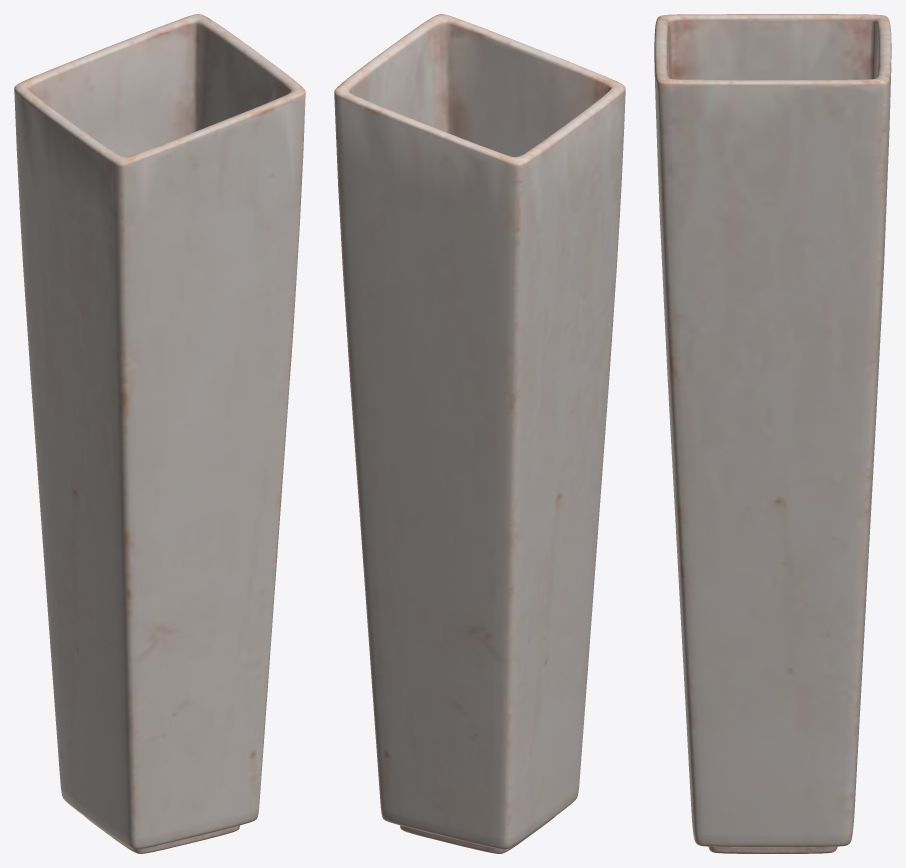
The model's file is ceramic_vase_03.glb.
The picture shows the model from 3 angles, left to right: view 1: azimuth 30°, elevation 25°; view 2: azimuth 150°, elevation 25°; view 3: azimuth 270°, elevation 25°; orthographic projection. The views are drawn at different scales.
Parts seen in each view (by area): view 1: ceramic_vase_03; view 2: ceramic_vase_03; view 3: ceramic_vase_03.
Part boxes in pixels (bbox=[...]): ceramic_vase_03: bbox=[14, 14, 305, 853]; ceramic_vase_03: bbox=[334, 14, 625, 853]; ceramic_vase_03: bbox=[654, 14, 891, 853].
Bounding box in the file's own units: 0.1122 × 0.4144 × 0.1122.
Materials: 1 (1 with a texture image).
